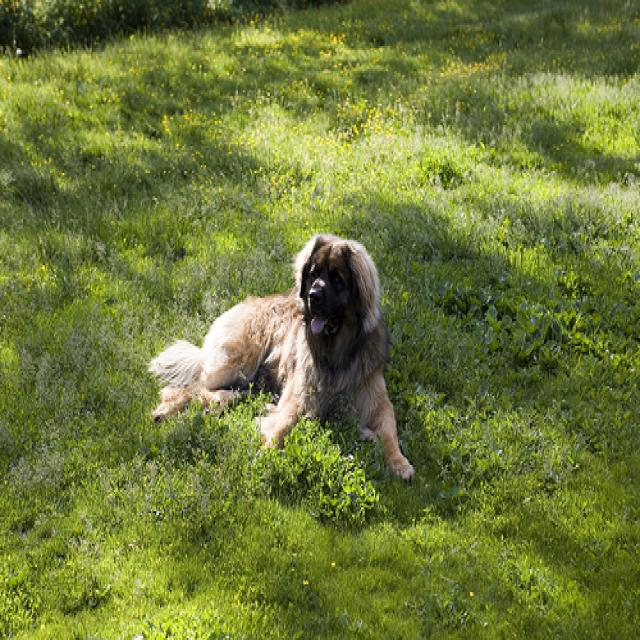dog-leonberger: (141, 227, 422, 494)
